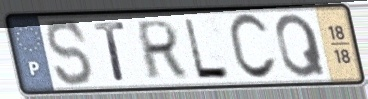C: (226, 11, 280, 83)
L: (181, 16, 233, 81)
Q: (273, 11, 329, 80)
R: (136, 18, 189, 83)
S: (44, 17, 96, 88)
T: (91, 19, 128, 83)
